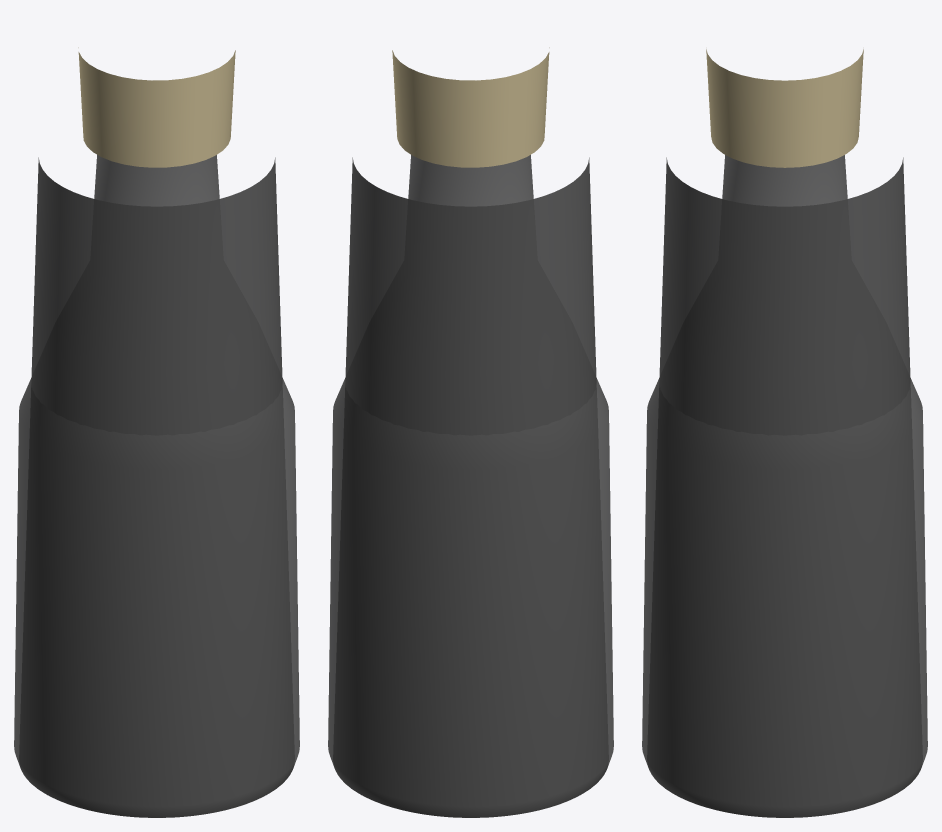
Rendered from guinness-draught-4pk.glb.
3 views of the same model, side by side, from view 1: azimuth 30°, elevation 25°; view 2: azimuth 150°, elevation 25°; view 3: azimuth 270°, elevation 25° (orthographic).
Parts seen in each view (by area): view 1: body, liquid, cap; view 2: body, liquid, cap; view 3: body, liquid, cap.
Boxes of the visible parts, x1,y1,x2,y2 form: body: (14, 155, 299, 817); liquid: (29, 157, 284, 817); cap: (78, 47, 235, 167); body: (328, 155, 613, 817); liquid: (343, 157, 598, 817); cap: (392, 47, 549, 167); body: (642, 155, 927, 817); liquid: (657, 157, 912, 817); cap: (706, 49, 863, 167).
Bounding box in the file's own units: 0.29 × 0.7975 × 0.29.
